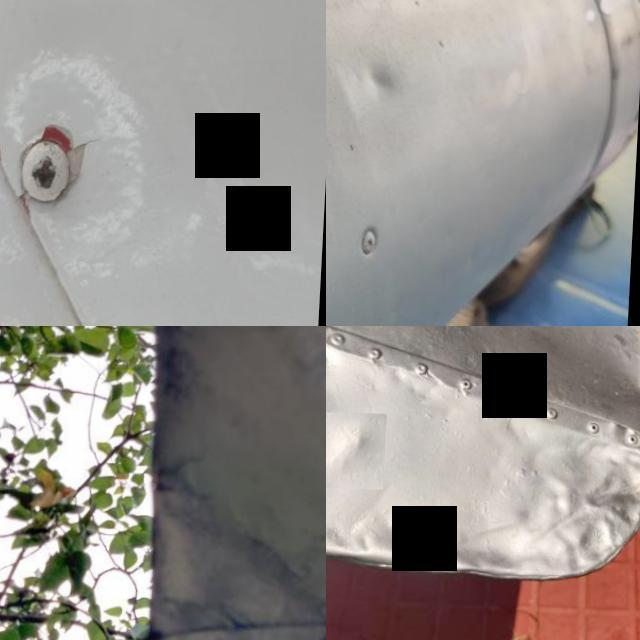Crack: (0, 104, 116, 265)
Dent: (124, 449, 326, 640), (326, 480, 540, 606), (512, 420, 640, 575), (326, 410, 391, 488), (352, 46, 417, 114), (326, 326, 350, 416)
